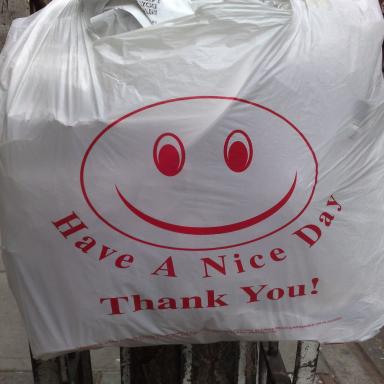plasticbag: (0, 0, 383, 362)
